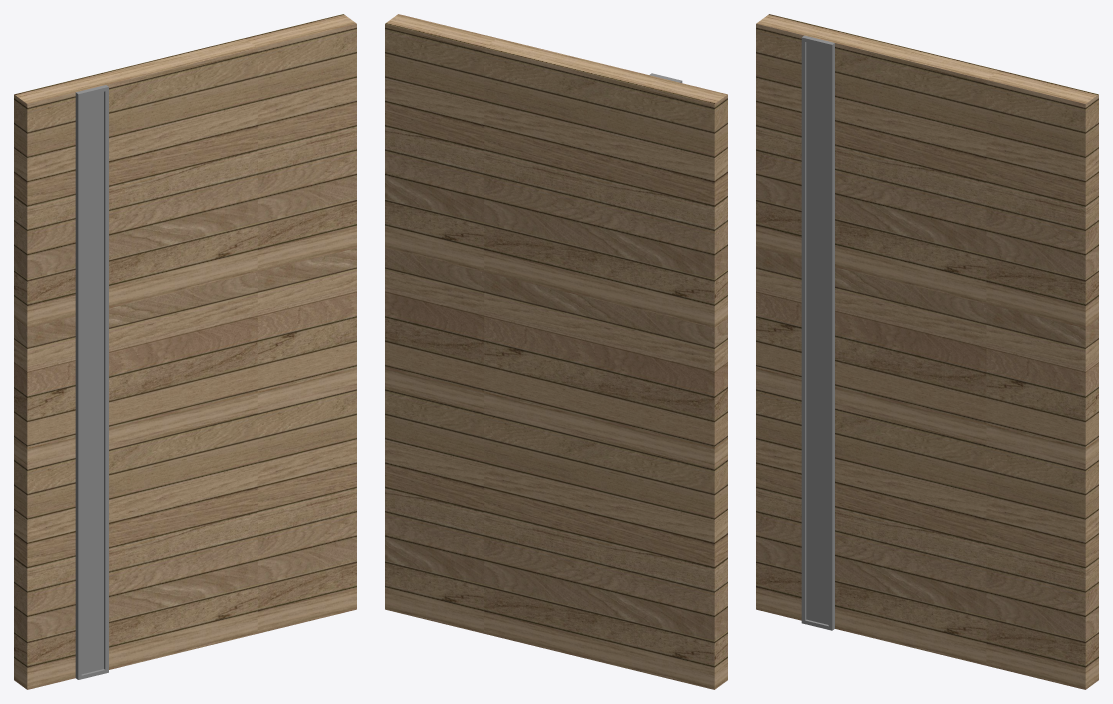
The model's file is board.dae.
The picture shows the model from 3 angles, left to right: view 1: azimuth 30°, elevation 25°; view 2: azimuth 150°, elevation 25°; view 3: azimuth 330°, elevation 25°; orthographic projection.
Visible parts, largest first — view 1: group_12.009, group_11.009, group_11.010; view 2: group_12.009; view 3: group_12.009, group_11.009, group_11.010.
Boxes of the visible parts, left/top/right/bottom form: group_12.009: left=14, top=14, right=356, bottom=689; group_11.009: left=81, top=91, right=105, bottom=675; group_11.010: left=75, top=85, right=108, bottom=679; group_12.009: left=385, top=14, right=727, bottom=689; group_12.009: left=756, top=14, right=1098, bottom=689; group_11.009: left=805, top=42, right=828, bottom=626; group_11.010: left=801, top=35, right=834, bottom=630.
Bounding box in the file's own units: 1.43 × 0.12 × 2.43.
2 materials, 1 textured.
